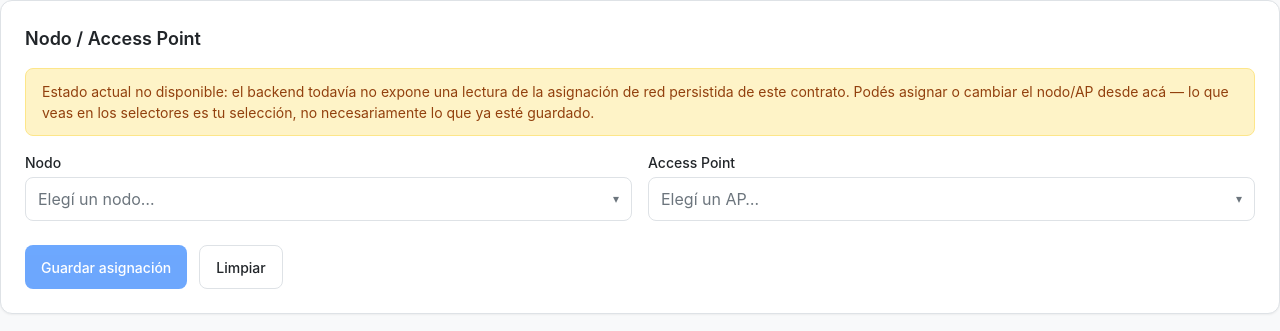
Test case: ContractNetworkAssignmentPicker › M1 — enables Guardar once an AP is selected
This screenshot has width=1280, height=331.
Click the dropdown named "access point" at coordinates (710, 199), box [648,177,1255,221]
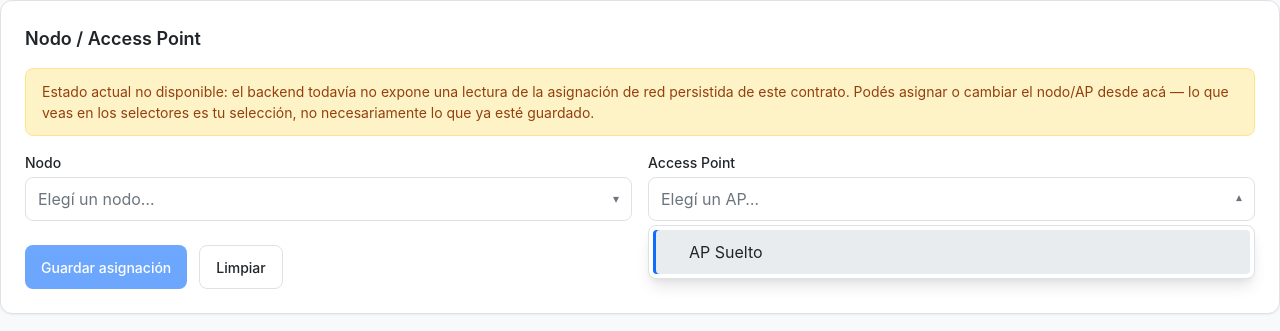
Click the option "AP Suelto" at coordinates (726, 252), box [653,230,1250,274]
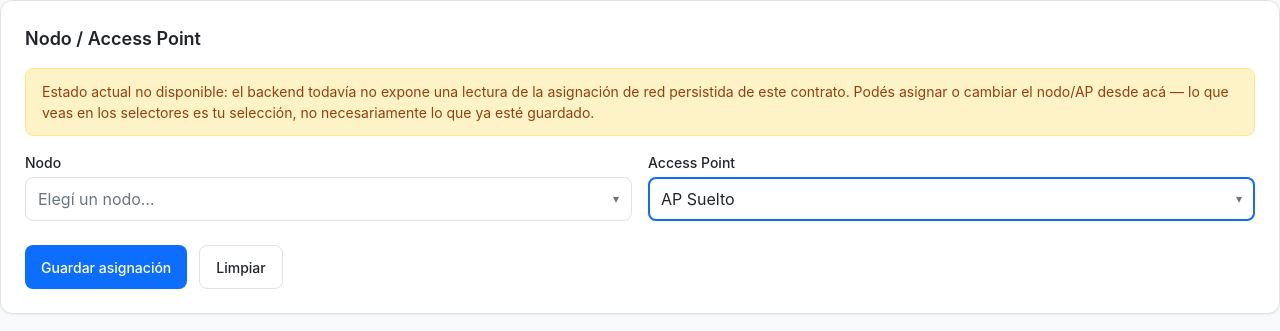
Result: the button with test id "network-assignment-save-button" is enabled at [25,245,187,289]
